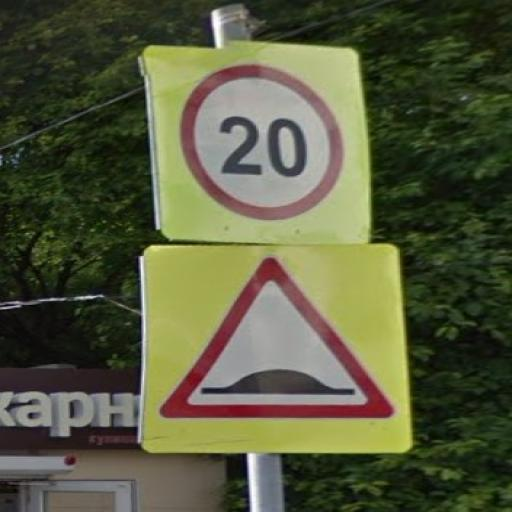traffic_sign: (158, 257, 398, 423), (181, 63, 346, 221)
